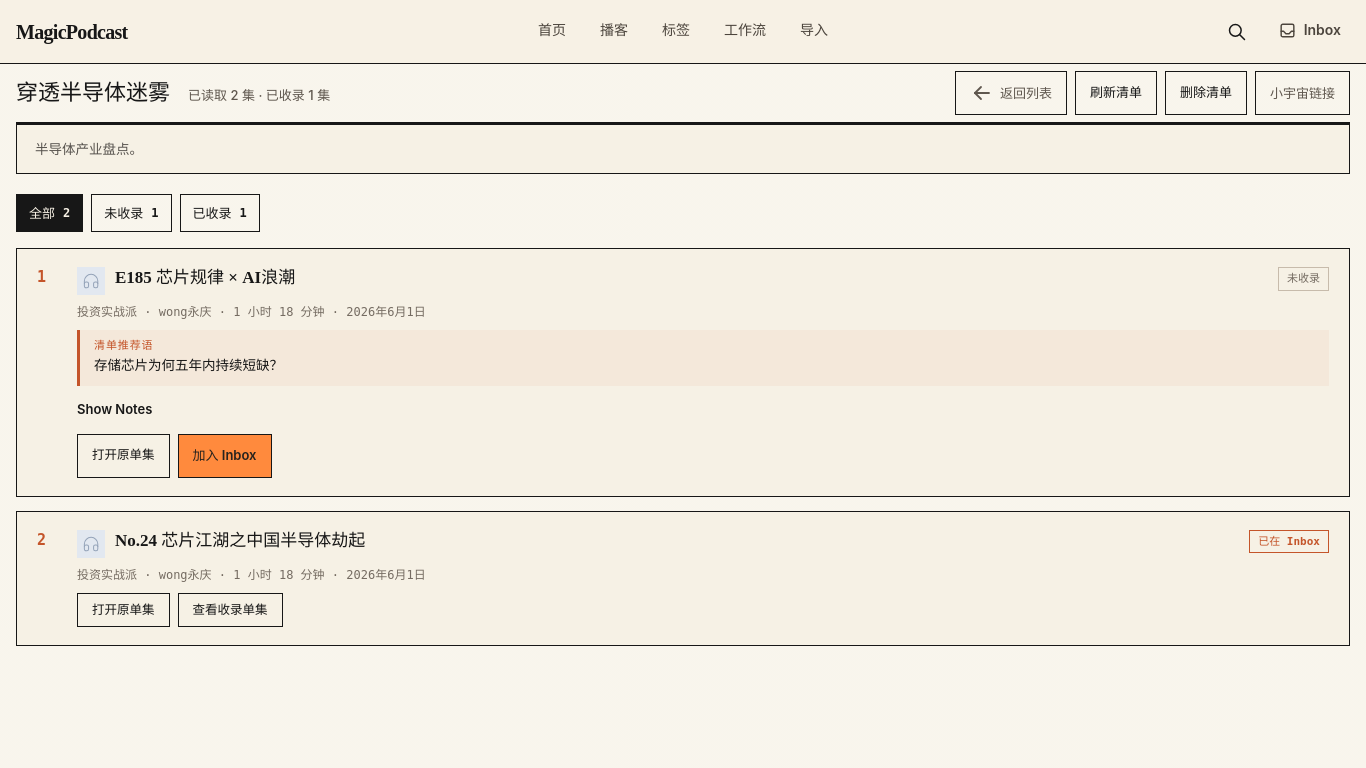
CollectionDetailContent › adopts an un-collected entry into Inbox and refreshes real states
The image size is (1366, 768).
Expected: the link "E185 芯片规律 × AI浪潮" is shown, [115, 268, 295, 287]
Click the button "加入 Inbox" at point(224, 456), box [178, 434, 272, 478]
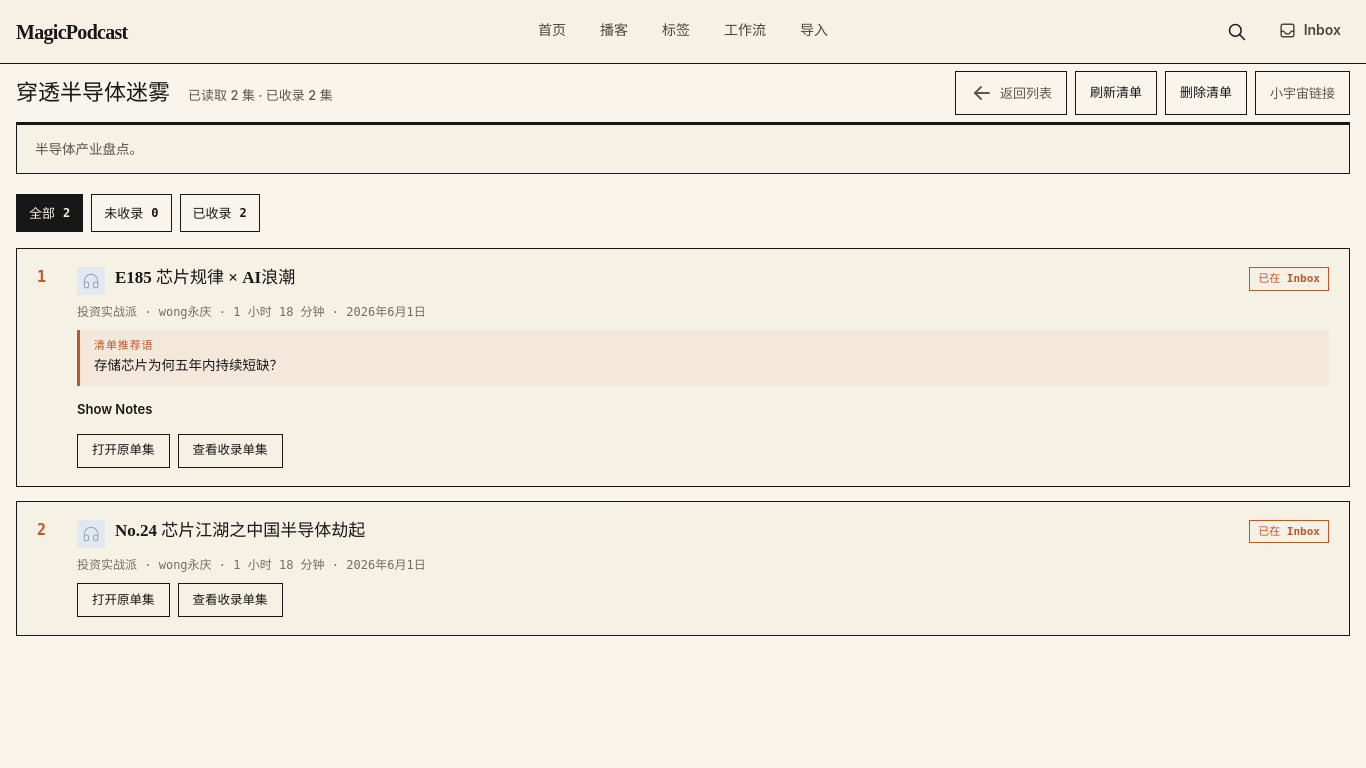
Expected: the text "已在 Inbox" is shown 2 times, [1249, 267, 1329, 291]; [1249, 520, 1329, 543]
Now the button "加入 Inbox" is gone
